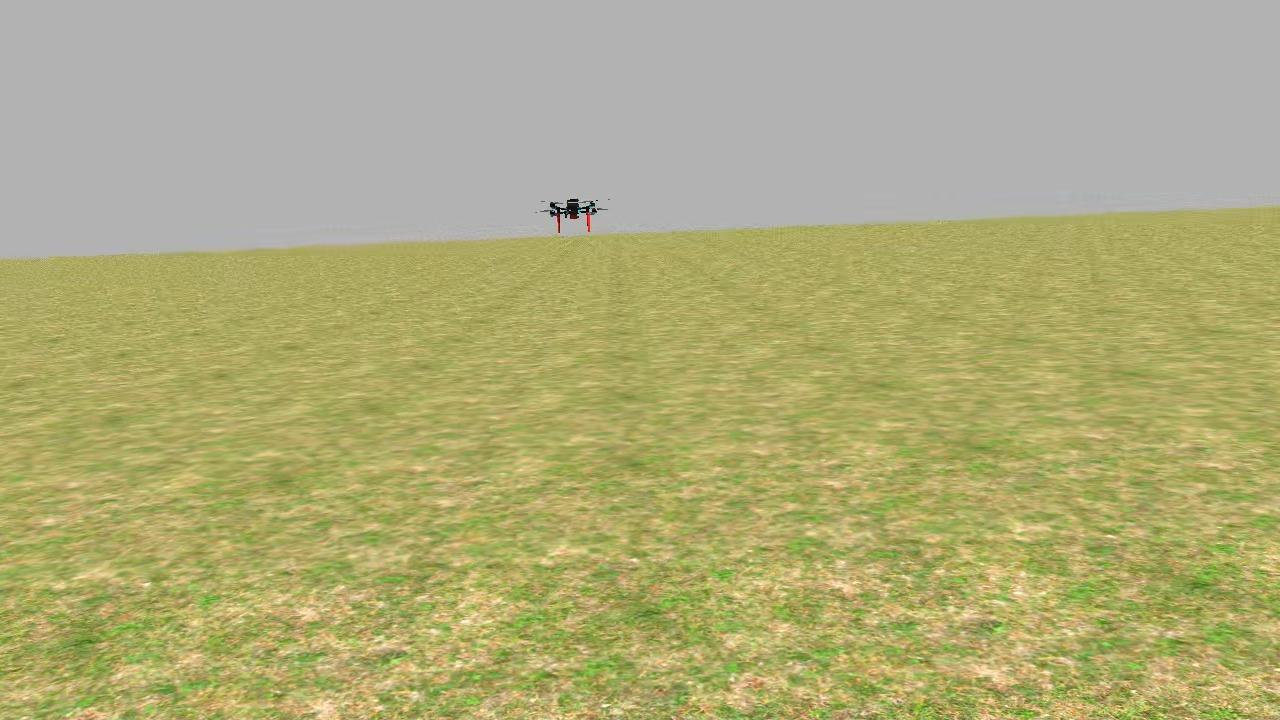UAV: (532, 181, 615, 242)
